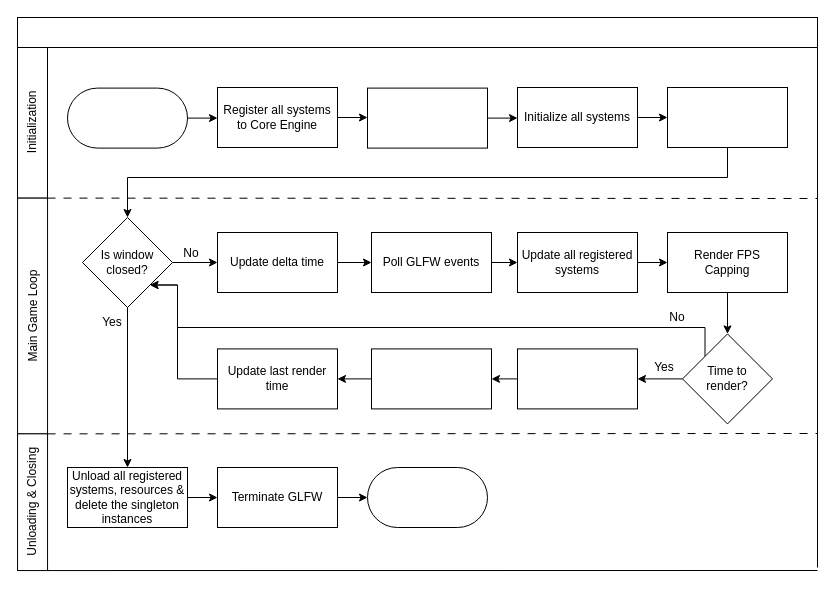
The diagram is 836 pixels wide and 590 high, and some of its shapes have lost their labels. Each missing label, with the centre of its shape:
End: pixel 427 497
Engine Architecture Flow: pixel 417 32
GLFW swap buffers: pixel 431 378
Load all resources: pixel 727 117
Render Scene: pixel 577 378
Set first scene to editor: pixel 427 117
Start: pixel 127 117
